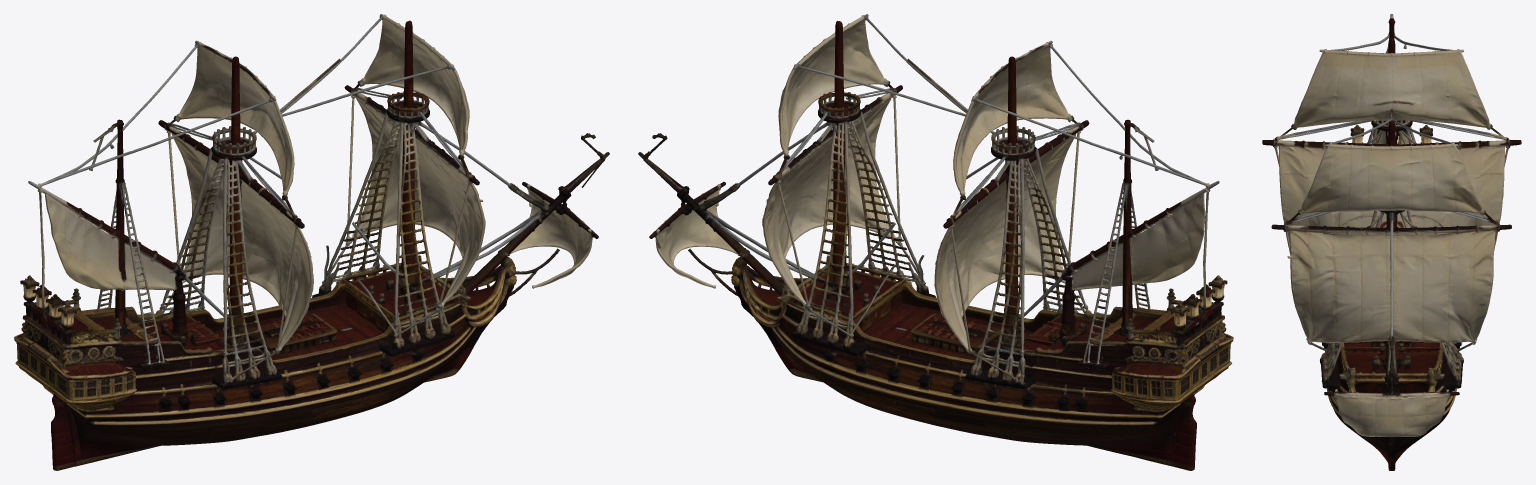
The model's file is ship-ia.glb.
3 renders of one model, left to right at view 1: azimuth 30°, elevation 25°; view 2: azimuth 150°, elevation 25°; view 3: azimuth 270°, elevation 25°, orthographic. The views are drawn at different scales.
Visible parts, largest first — view 1: tripo_node_d888255c-ea0e-4a17-925b-ef286dbf7af4; view 2: tripo_node_d888255c-ea0e-4a17-925b-ef286dbf7af4; view 3: tripo_node_d888255c-ea0e-4a17-925b-ef286dbf7af4.
Part boxes in pixels (box(x1,y1,x2,y2)): tripo_node_d888255c-ea0e-4a17-925b-ef286dbf7af4: box(14, 14, 609, 470); tripo_node_d888255c-ea0e-4a17-925b-ef286dbf7af4: box(638, 14, 1233, 470); tripo_node_d888255c-ea0e-4a17-925b-ef286dbf7af4: box(1262, 14, 1521, 470).
Bounding box in the file's own units: 10.77 × 6.57 × 4.58.
Materials: 1 (1 with a texture image).
